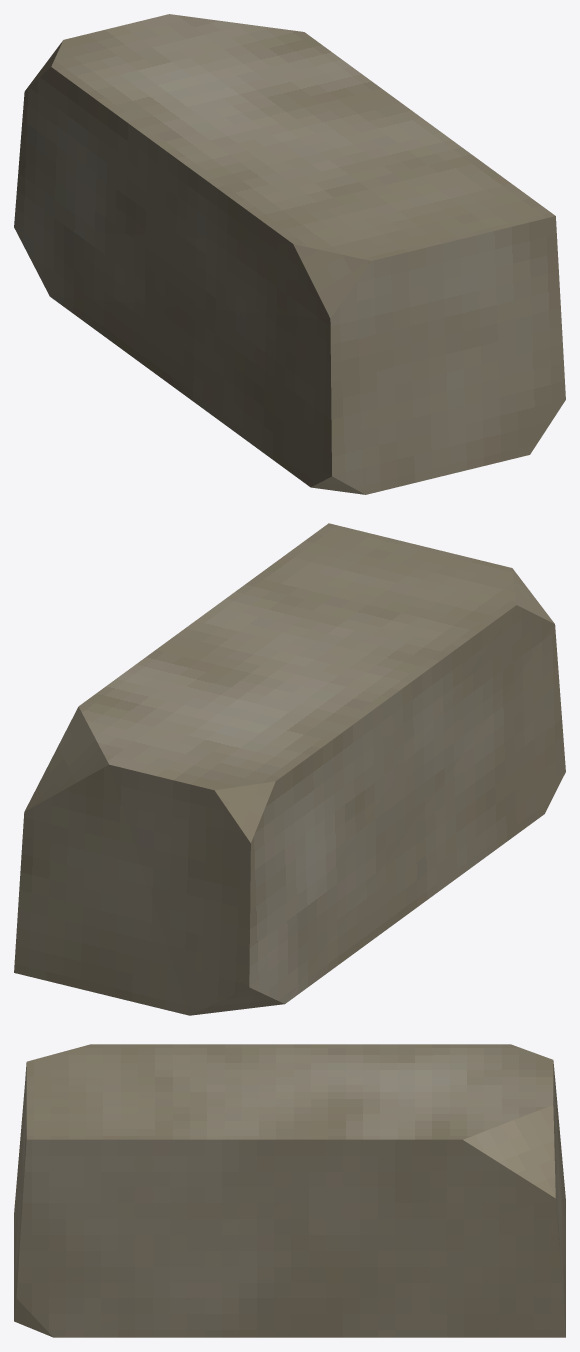
Rendered from rock_small4_long_fbx.fbx.
3 views of the same model, one above another, from view 1: azimuth 30°, elevation 25°; view 2: azimuth 150°, elevation 25°; view 3: azimuth 270°, elevation 25° (orthographic). The views are drawn at different scales.
Visible parts, largest first — view 1: rock_small4_long; view 2: rock_small4_long; view 3: rock_small4_long.
Part boxes in pixels (x1=…): rock_small4_long: x1=14, y1=14, x2=565, y2=494; rock_small4_long: x1=14, y1=523, x2=565, y2=1015; rock_small4_long: x1=14, y1=1044, x2=565, y2=1337.
Bounding box in the file's own units: 85.54 × 77.95 × 199.
Materials: 1 (1 with a texture image).
